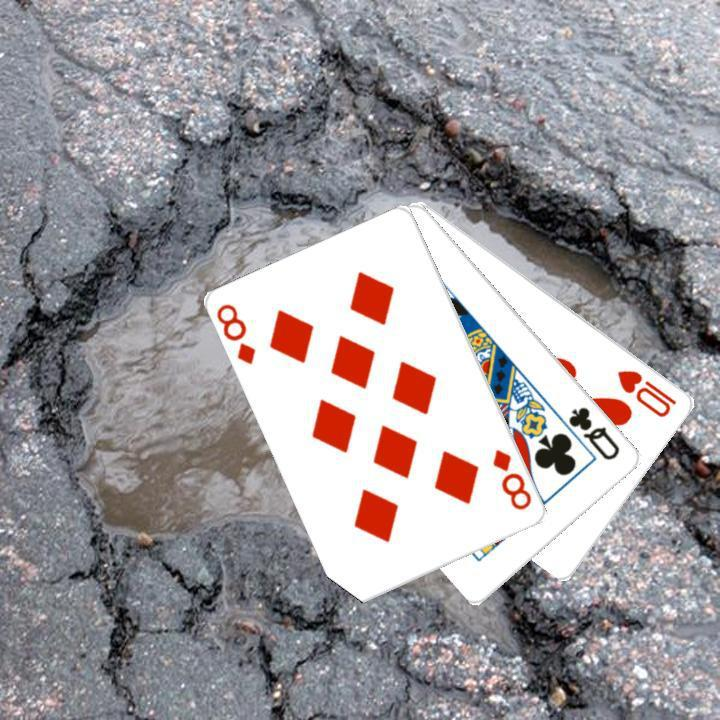10: (613, 365, 679, 420)
8: (212, 299, 259, 367), (488, 444, 534, 513)
Q: (564, 402, 623, 463)
